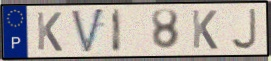8: (150, 8, 181, 53)
I: (111, 8, 123, 54)
J: (228, 7, 258, 51)
K: (190, 9, 219, 52), (35, 11, 64, 54)
V: (69, 7, 107, 56)
